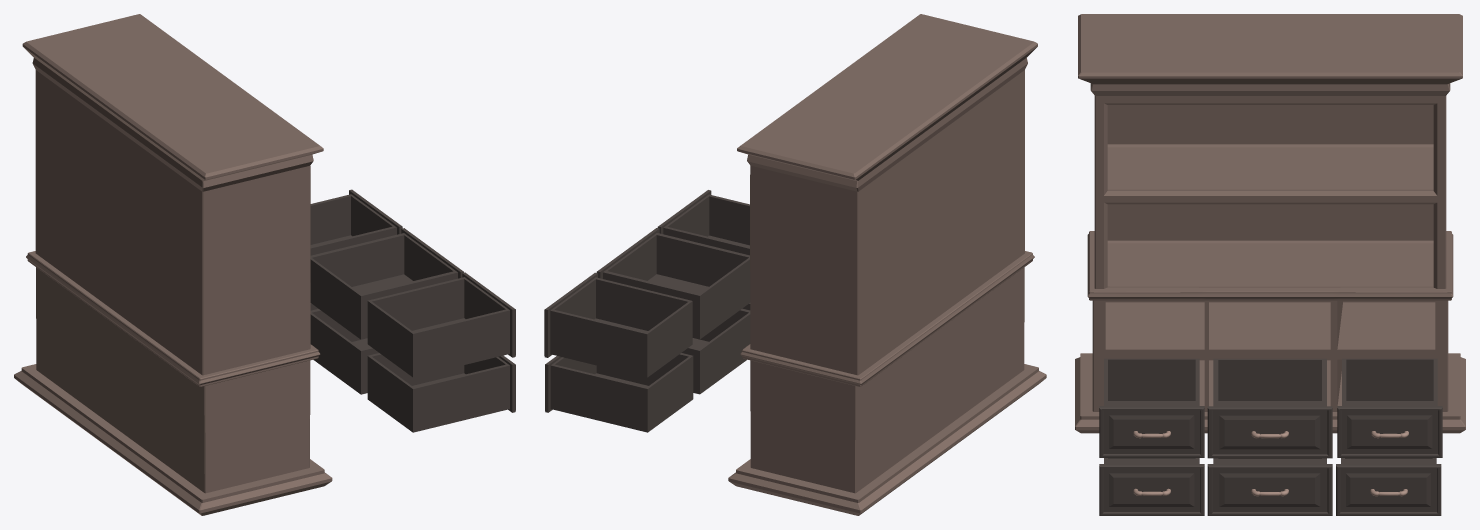
The model's file is Sari_Bookcase.fbx.
3 renders of one model, left to right at view 1: azimuth 30°, elevation 25°; view 2: azimuth 150°, elevation 25°; view 3: azimuth 270°, elevation 25°, orthographic. The views are drawn at different scales.
Parts seen in each view (by area): view 1: pCube14, pCube19 (×3), pCube22 (×2); view 2: pCube14, pCube19 (×3), pCube22 (×2); view 3: pCube14, pCube19 (×4), pCube22 (×2).
Part boxes in pixels (x1,y1,x2,y2): pCube14: (14, 14, 332, 515); pCube19 (×3): (310, 189, 515, 432); pCube22 (×2): (310, 228, 463, 394); pCube14: (728, 14, 1046, 515); pCube19 (×3): (544, 190, 749, 432); pCube22 (×2): (596, 228, 750, 394); pCube14: (1075, 14, 1465, 433); pCube19 (×4): (1099, 358, 1442, 515); pCube22 (×2): (1207, 358, 1332, 515).
Size of the model in its own units: 8.97 by 8.72 by 8.61.
